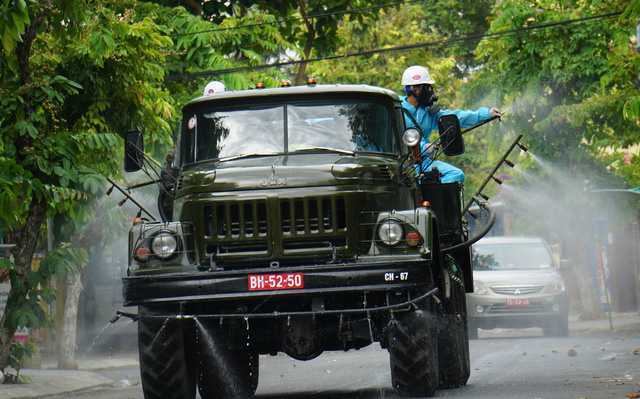plate: (245, 271, 303, 292), (503, 296, 531, 306)
